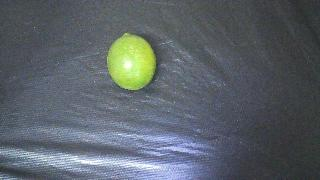LOCAL: (107, 33, 156, 90)
